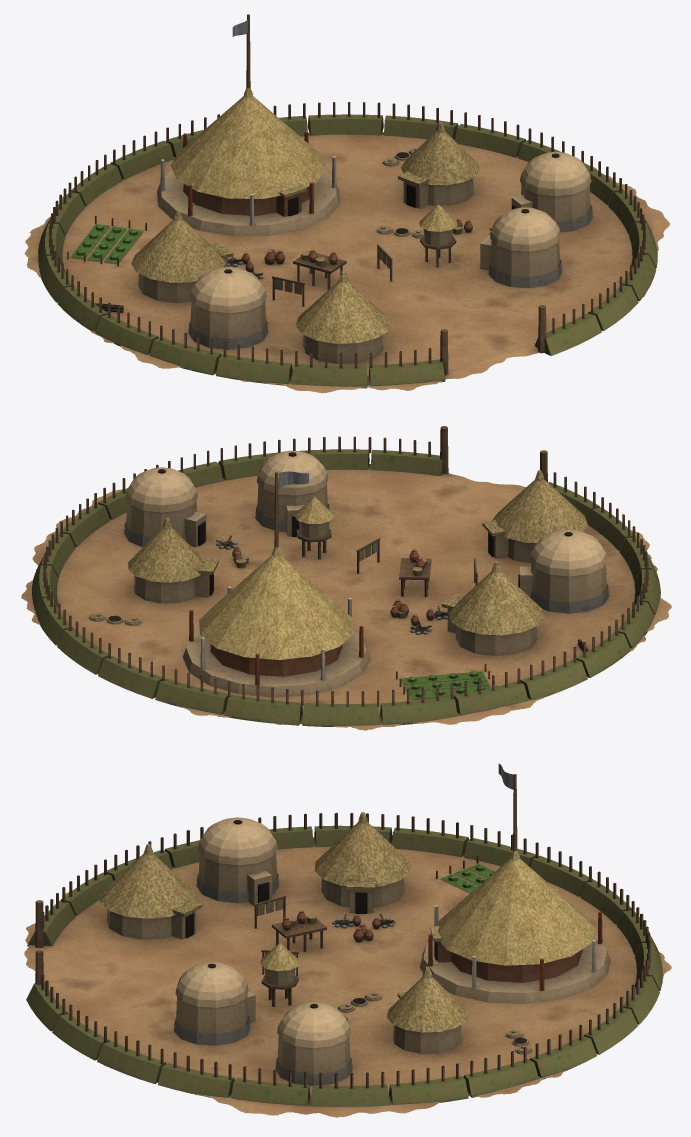
Rendered from stone-town-small-b-maghreb.glb.
3 views of the same model, one above another, from view 1: azimuth 30°, elevation 25°; view 2: azimuth 150°, elevation 25°; view 3: azimuth 270°, elevation 25° (orthographic). The views are drawn at different scales.
Parts seen in each view (by area): view 1: LOD0; view 2: LOD0; view 3: LOD0.
Boxes of the visible parts, <box> form: LOD0: <box>24,14,670,393</box>; LOD0: <box>21,426,671,730</box>; LOD0: <box>24,764,671,1117</box>.
Size of what is drawn, in the model's own units: 3.96 by 1.25 by 3.88.
Materials: 3 (3 with a texture image).
